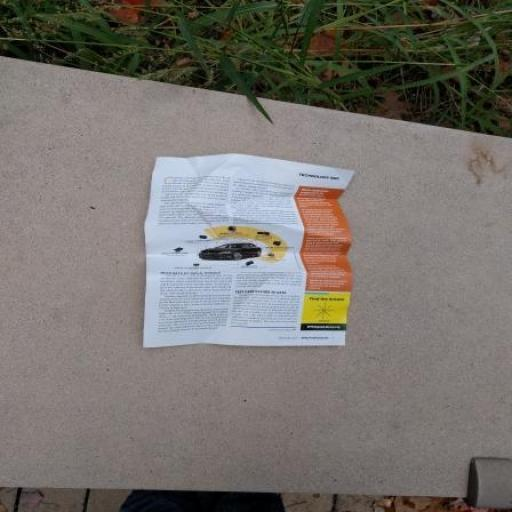paper: (90, 100, 415, 414)
